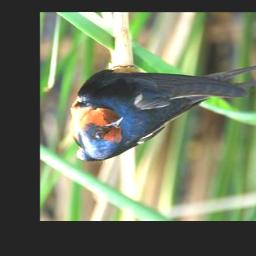Swallow: (68, 63, 256, 165)
